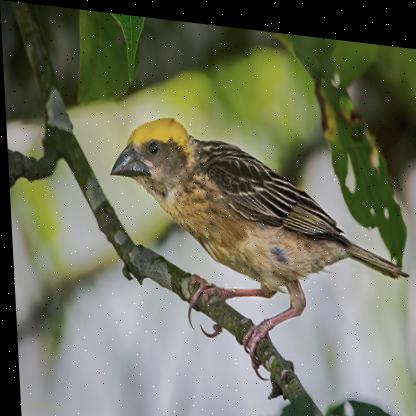Burung: (107, 108, 413, 388)
